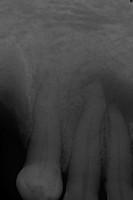Furcation Involvement: (80, 71, 133, 124)
